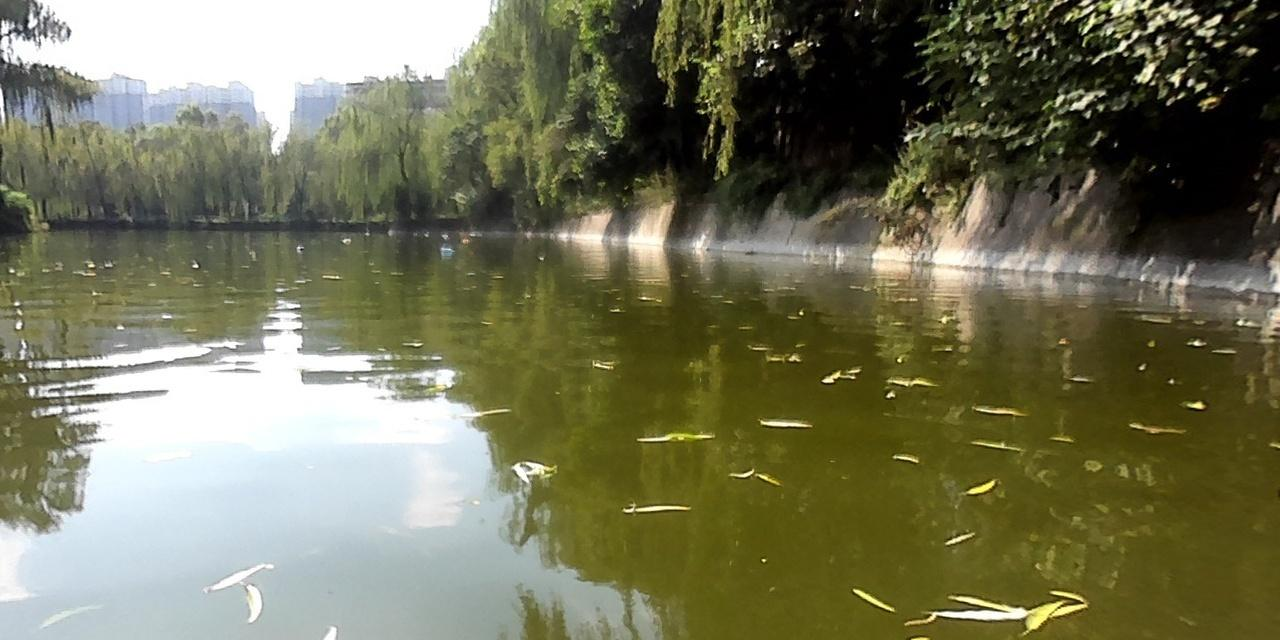bottle: (437, 245, 457, 258)
